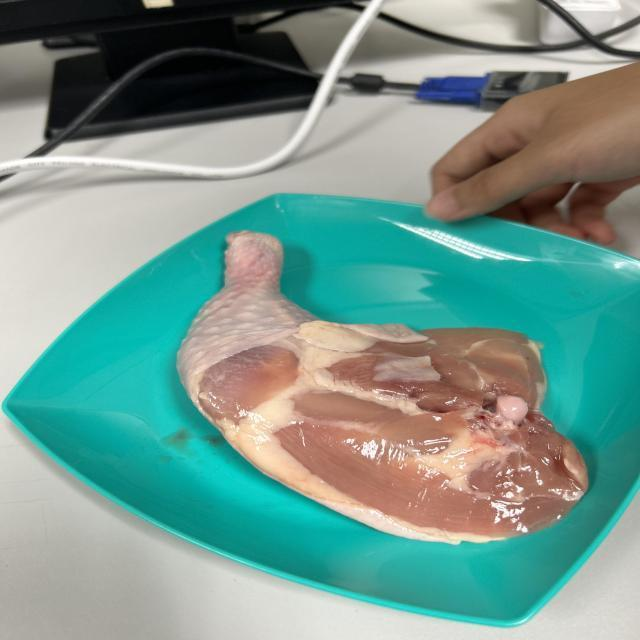quater: (204, 226, 578, 522)
